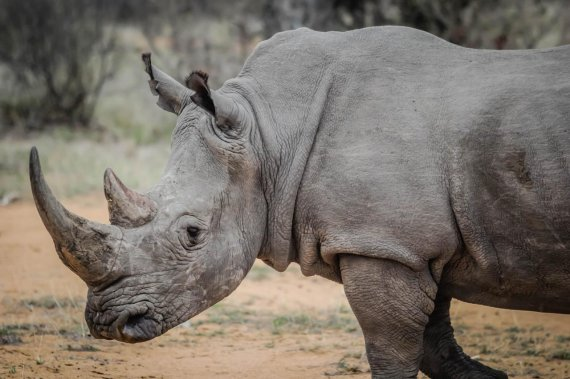Rhinoceros: (3, 11, 567, 376)
